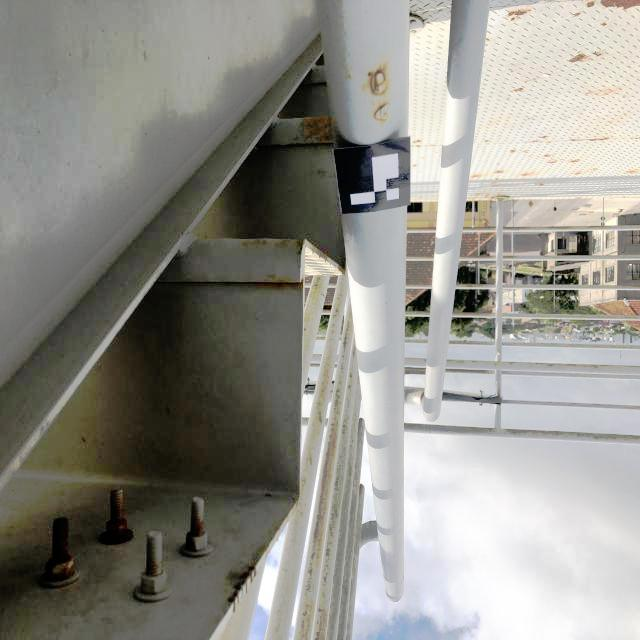Corrosion: (44, 518, 74, 581), (99, 497, 133, 544), (365, 59, 390, 98), (299, 117, 333, 143), (185, 506, 203, 551), (600, 0, 640, 10), (371, 103, 390, 123), (255, 280, 302, 287), (467, 192, 495, 201), (147, 554, 158, 574), (569, 54, 590, 64), (507, 9, 532, 17), (337, 264, 346, 275), (589, 137, 609, 141), (587, 0, 596, 8), (592, 51, 602, 57), (513, 88, 524, 92), (509, 16, 516, 22), (627, 170, 637, 174), (570, 159, 579, 163), (538, 135, 547, 139), (600, 90, 606, 96), (573, 13, 581, 17), (544, 154, 552, 158), (473, 192, 480, 196), (472, 174, 479, 178), (547, 160, 556, 163), (495, 170, 504, 173), (601, 22, 607, 26), (532, 140, 540, 143), (586, 91, 594, 94), (522, 173, 529, 176), (575, 172, 582, 175), (414, 140, 421, 143), (608, 90, 613, 94), (510, 150, 516, 153), (486, 38, 490, 41), (539, 184, 544, 186), (575, 197, 580, 199), (571, 139, 576, 141), (595, 93, 598, 96), (496, 177, 498, 180), (414, 165, 416, 167)
